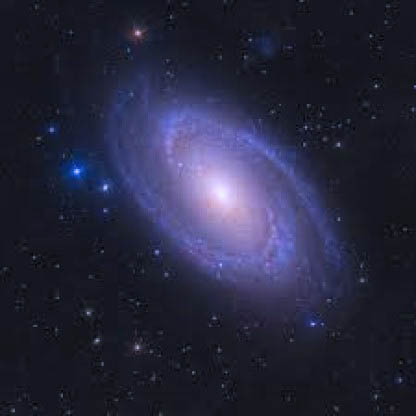Messier 81: (67, 60, 369, 332)
